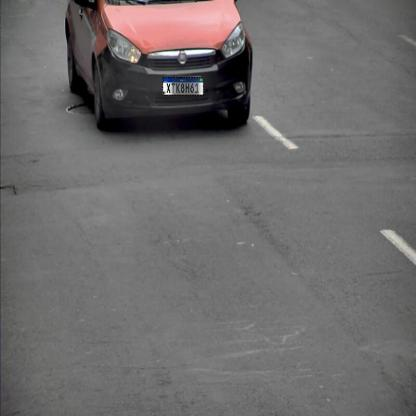PlacaM: (162, 77, 204, 96)
